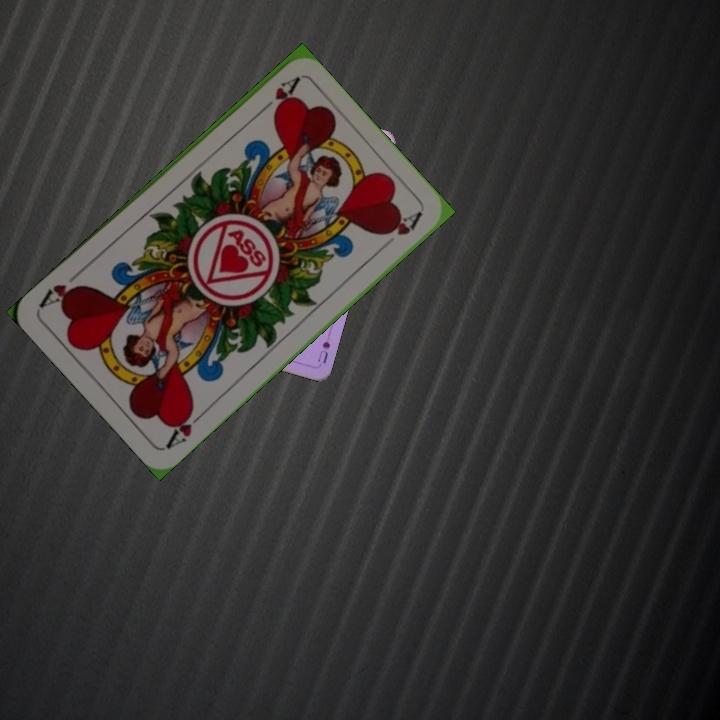HA: (161, 403, 209, 451), (253, 73, 301, 119)
SU: (313, 326, 334, 366)
